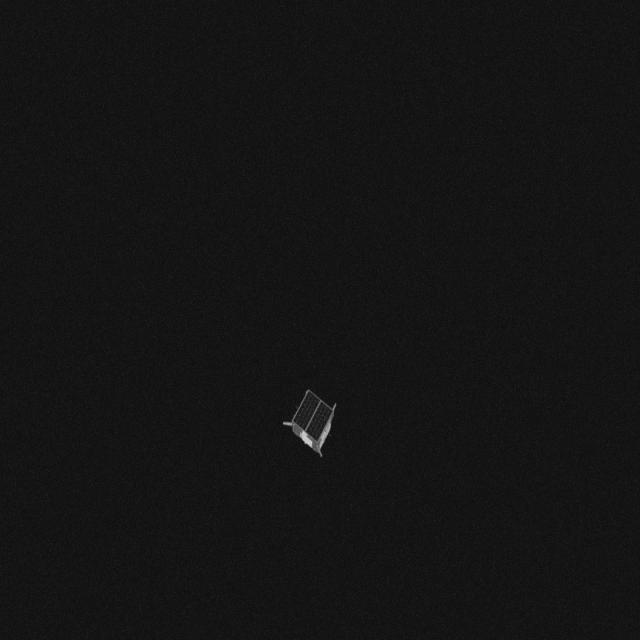satellite: (280, 386, 336, 458)
